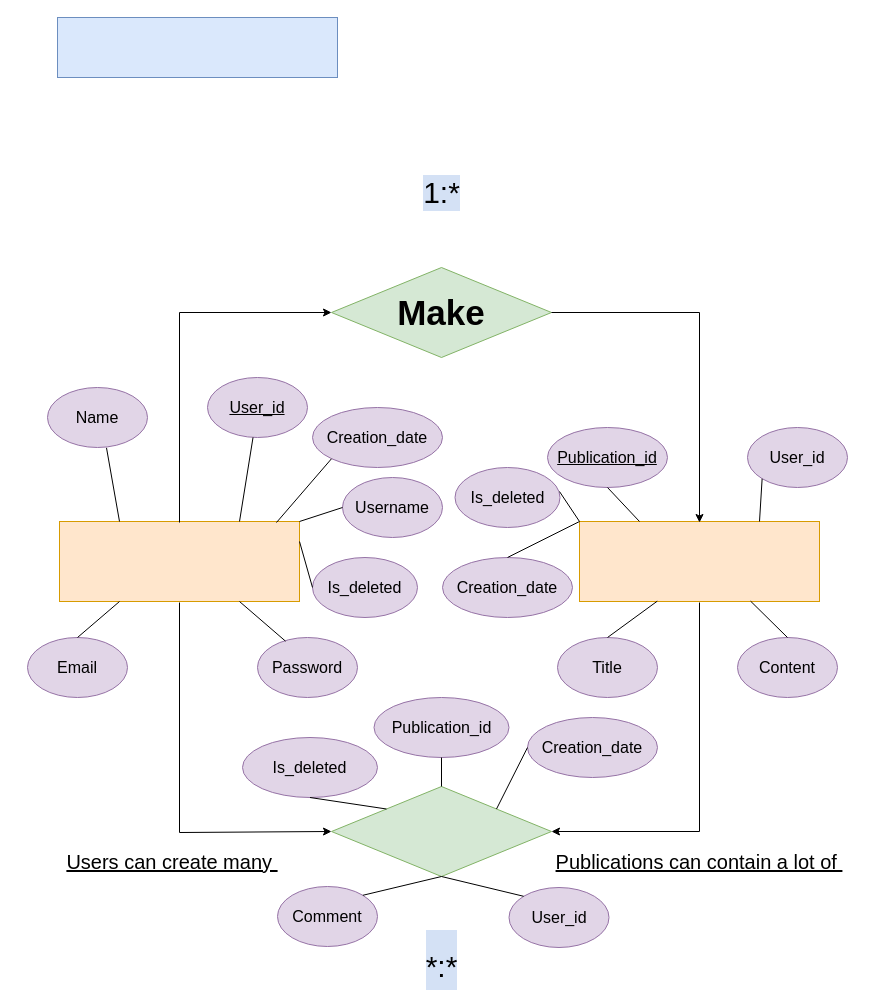
Image size: 881x1007. Some labels were removed from this diagram. The shapes that lost their labels are listed below. From the top down, each one's box as (x1, y1, x2, y2) in pixels, then its label:
(56, 16, 338, 78): BLOG
(58, 520, 300, 602): Users
(578, 520, 820, 602): Publications
(330, 786, 552, 876): Comments
